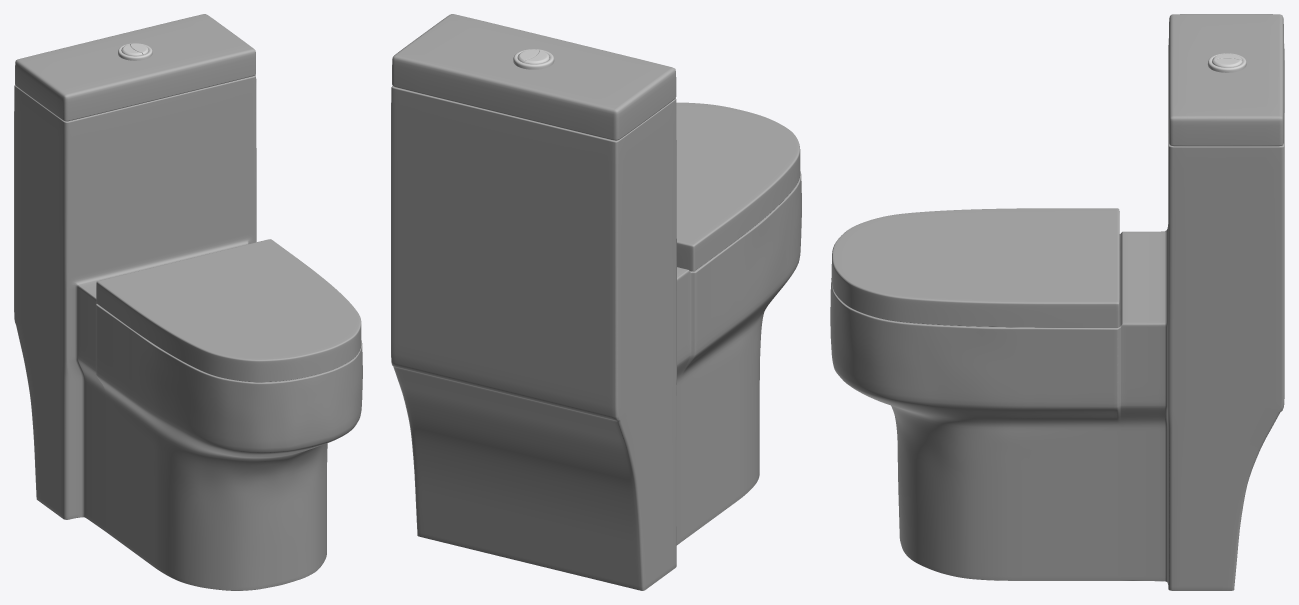
Rendered from toilet.glb.
3 views of the same model, side by side, from view 1: azimuth 30°, elevation 25°; view 2: azimuth 150°, elevation 25°; view 3: azimuth 270°, elevation 25° (orthographic). The views are drawn at different scales.
Visible parts, largest first — view 1: Ceramic, Plastic, Metallic; view 2: Ceramic, Plastic, Metallic; view 3: Ceramic, Plastic, Metallic.
Part boxes in pixels (x1,y1,x2,y2): Ceramic: (14, 14, 362, 590); Plastic: (96, 239, 361, 382); Metallic: (118, 43, 152, 60); Ceramic: (391, 14, 801, 590); Plastic: (676, 102, 800, 271); Metallic: (513, 49, 554, 69); Ceramic: (830, 14, 1284, 590); Plastic: (831, 208, 1119, 327); Metallic: (1207, 53, 1246, 72).
Bounding box in the file's own units: 0.3633 × 0.7716 × 0.6623.
1 material, 1 textured.
